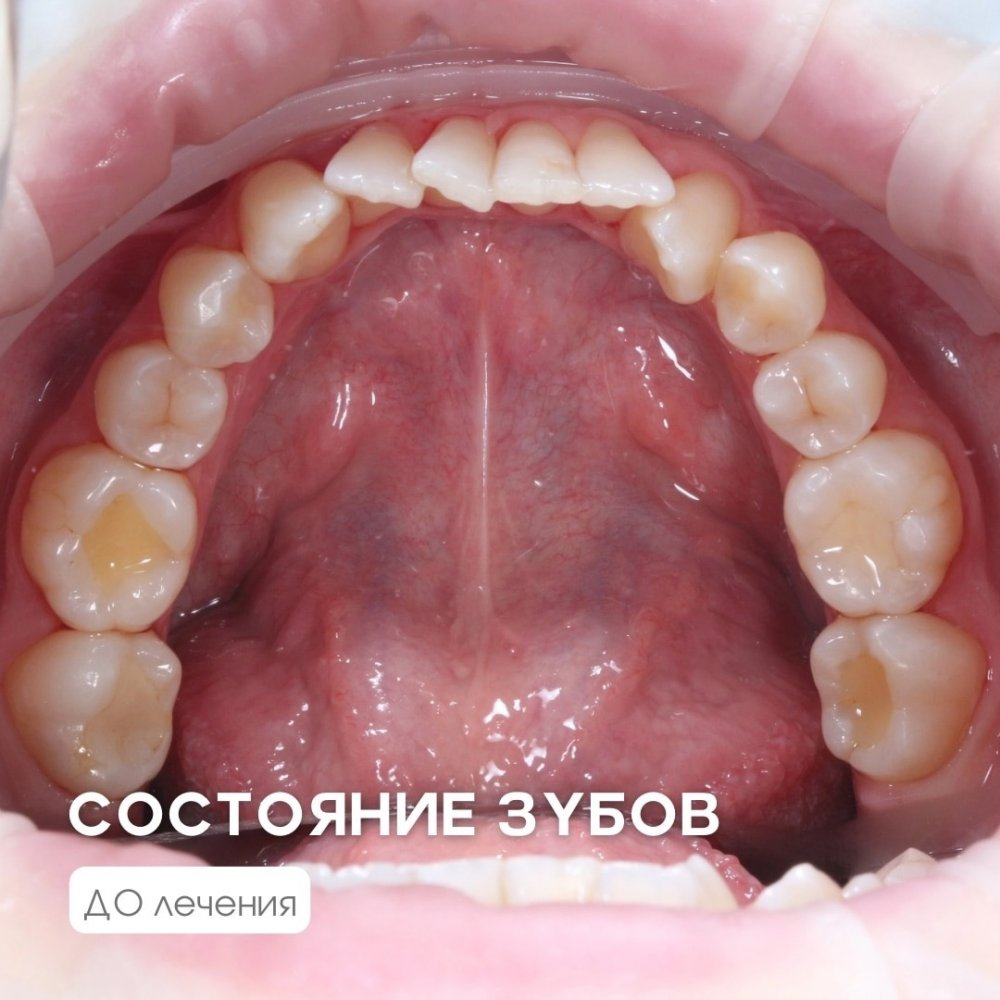UL1BC_healthy: (716, 232, 825, 350)
UL1M_healthy: (783, 434, 955, 617)
UL2BC_healthy: (753, 334, 883, 458)
UL2M_decay: (811, 613, 977, 778)
ULCI_healthy: (497, 124, 578, 211)
ULC_healthy: (621, 177, 740, 301)
ULLI_healthy: (578, 126, 674, 211)
UR1BC_healthy: (160, 249, 274, 365)
UR1M_decay: (37, 456, 185, 632)
UR2BC_healthy: (96, 346, 223, 469)
UR2M_decay: (27, 632, 177, 791)
URCI_healthy: (417, 119, 493, 212)
URC_healthy: (242, 160, 348, 281)
URLI_healthy: (325, 125, 420, 210)
